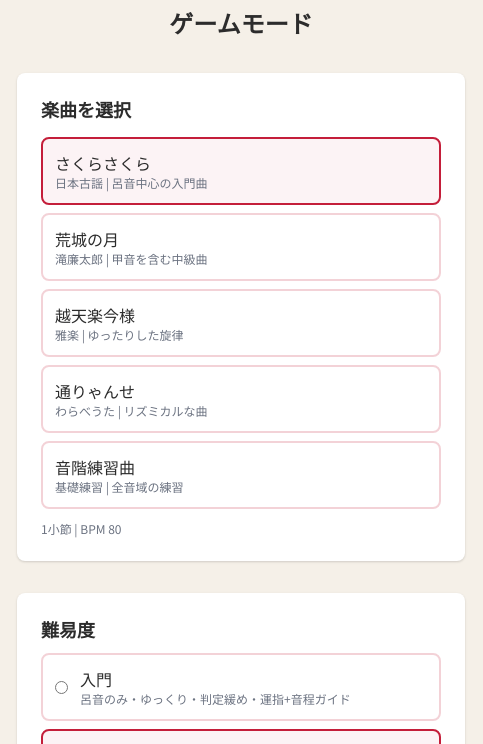
Test: GameSelectScreen › 難易度変更でスクロール速度が推奨値にリセットされる
The width and height of the screenshot is (483, 744).
入門に変更 → 遅い (0.6)
Step 1. Click the radio button → [62, 687], box [55,680,68,694]
(page scrolled)
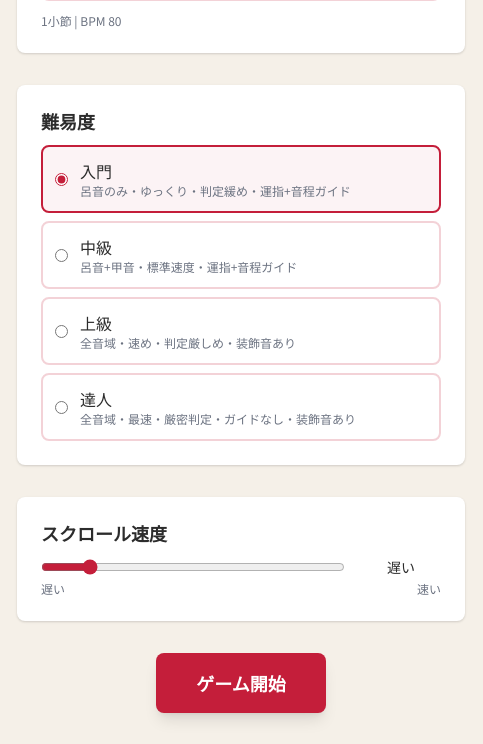
Expected: the text with test id "scroll-speed-label" reads "遅い", [387,557,415,577]
